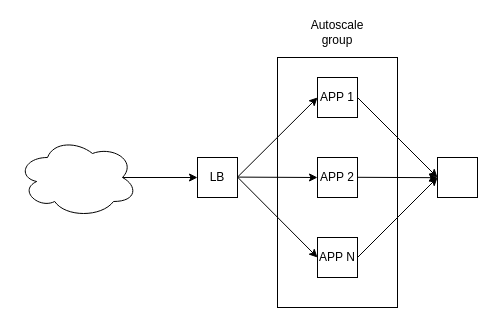
The diagram is 495 pixels wide and 325 high, and some of its shapes have lost their labels. The centre of each missing label's shape, as x and y in pixels:
"DB" goes at [457,177].
"Users" goes at [77,177].
